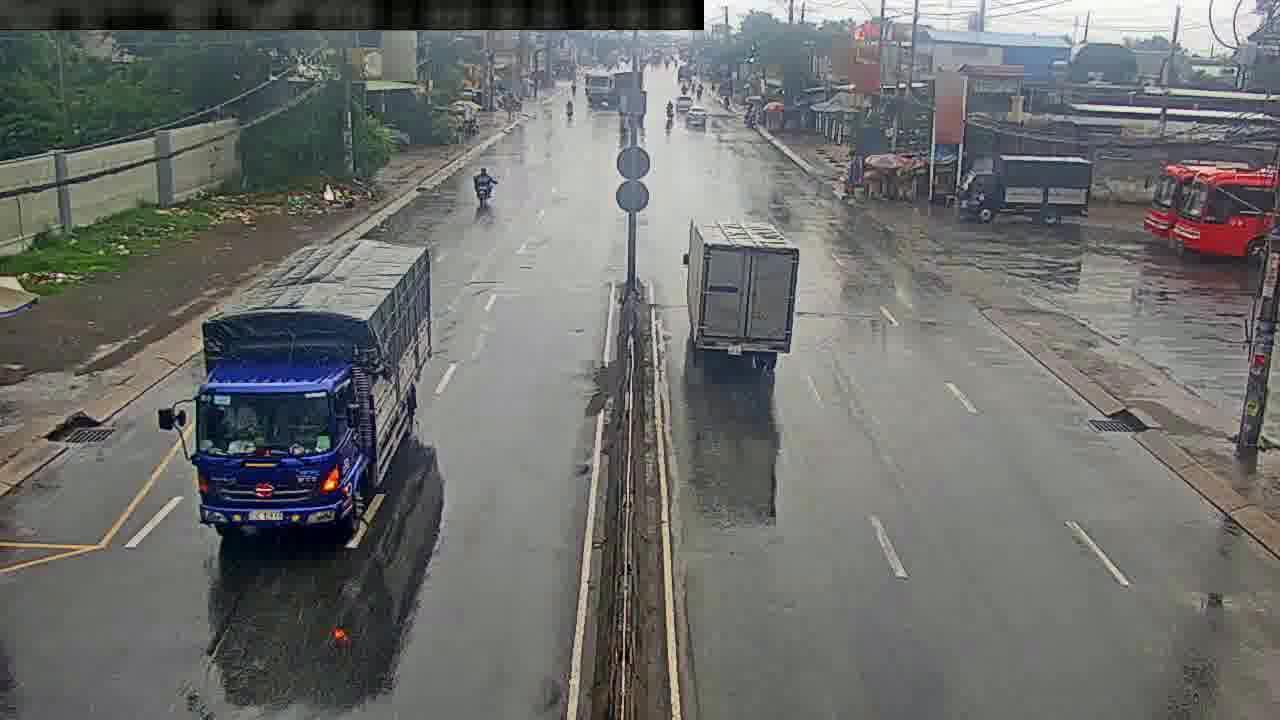8: (194, 240, 432, 540), (686, 220, 803, 359)
motorbike: (474, 161, 493, 211)
